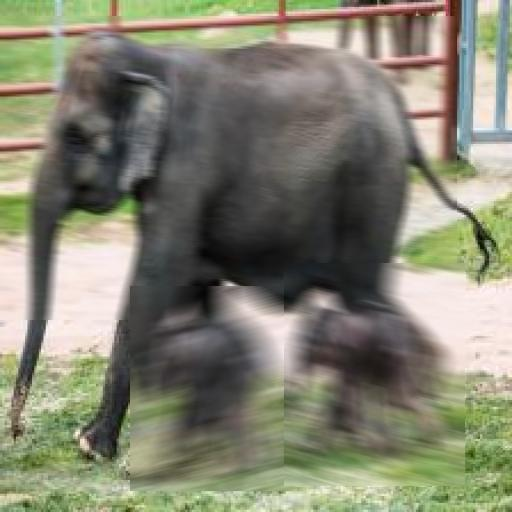Elephant: (0, 16, 457, 320), (284, 263, 465, 486), (130, 286, 293, 491)
